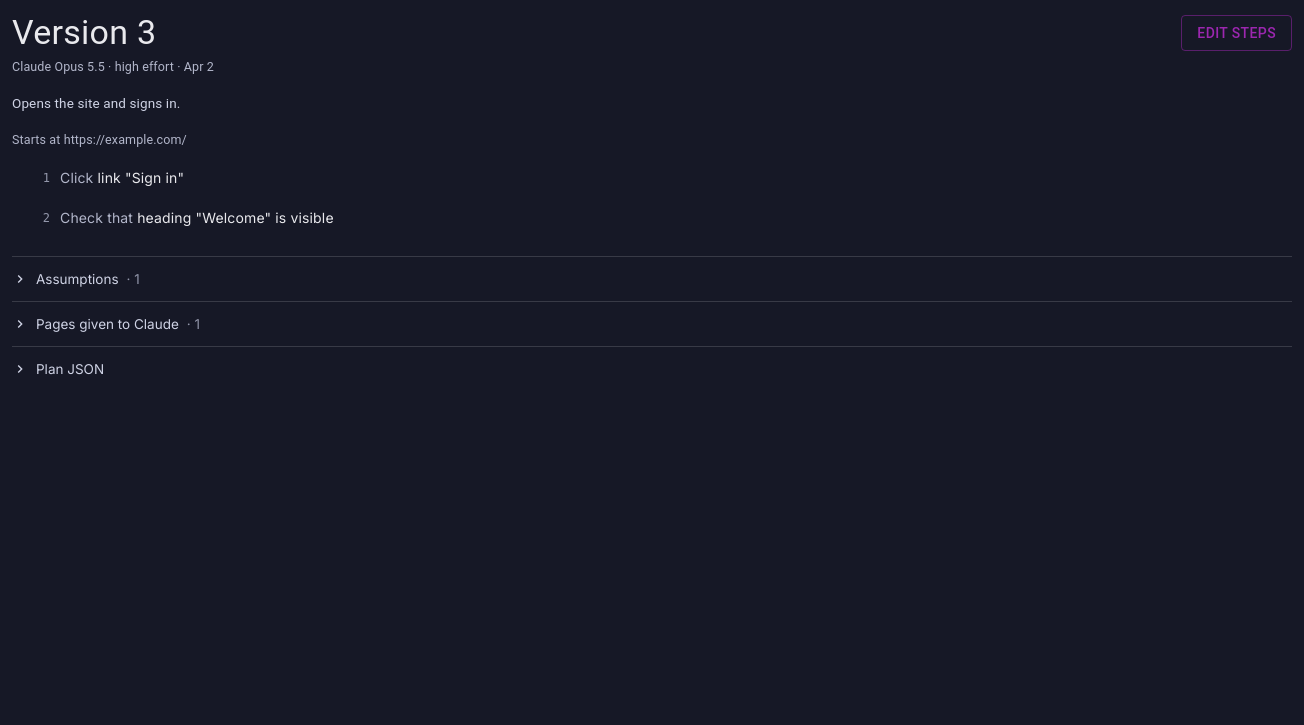
Test case: ActionScriptDetails › editing steps › opens the step editor on Edit steps, and closes it again on Cancel without saving
Click the button "Edit steps" at (1237, 33), box [1181, 15, 1292, 51]
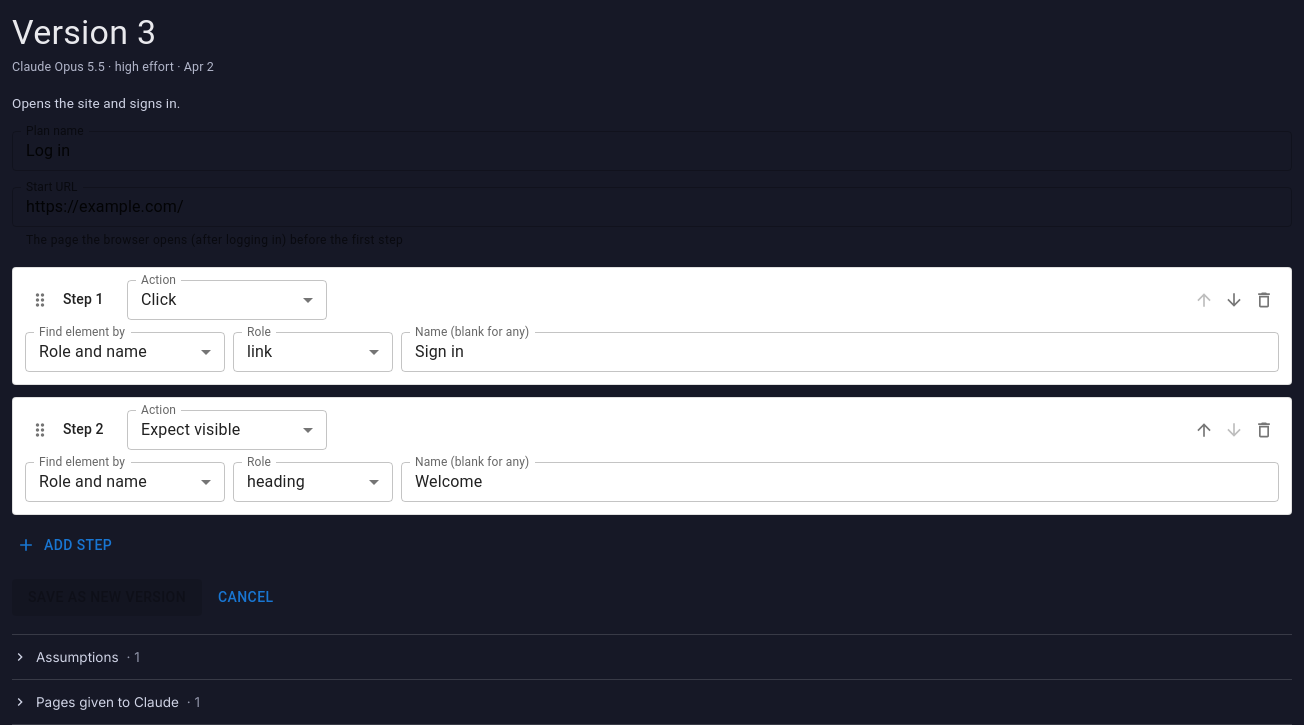
Now the field labelled "Plan name" holds "Log in", box [12, 131, 1292, 171]
Now the list named "Steps being edited" is shown, box [12, 267, 1292, 515]
Now the button "Edit steps" is gone
Click the button "Cancel" at (246, 598), box [210, 579, 282, 616]
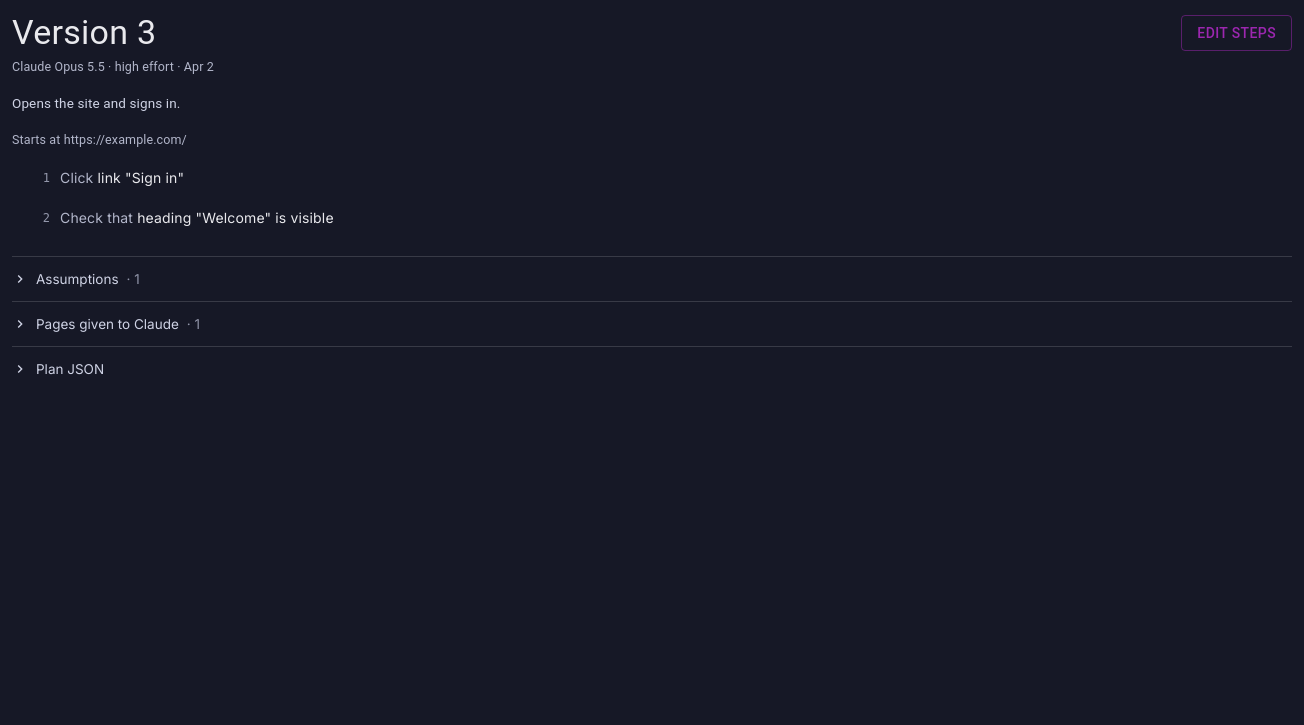
Now the label "Plan name" is gone
Now the number of list items is 2, box [43, 169, 184, 186]; [43, 209, 334, 226]
Now the button "Edit steps" is shown, box [1181, 15, 1292, 51]
